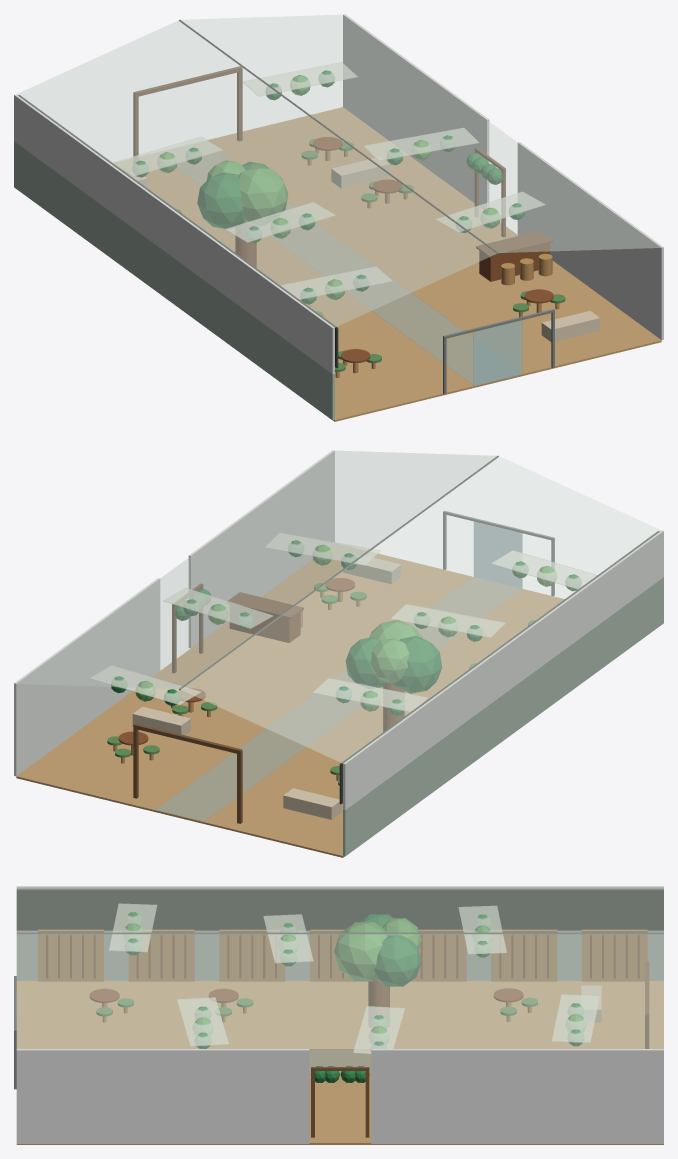
The model's file is rainforest-hall-material-concept-v2.glb.
The picture shows the model from 3 angles, top to bottom: view 1: azimuth 30°, elevation 25°; view 2: azimuth 150°, elevation 25°; view 3: azimuth 270°, elevation 25°; orthographic projection.
Visible parts, largest first — view 1: roof_left, sand_floor, roof_right, left_upper_screen, left_lower_operable_placeholder, right_wall_front, right_wall_back, V2_Main_Customer_Route_REFERENCE, double_door_reference, V2_LifeTree_Canopy_01_PROVISIONAL, V2_LifeTree_Canopy_00_PROVISIONAL, V2_Sheer_Canopy_02 (+12 smaller); view 2: roof_left, sand_floor, roof_right, left_upper_screen, left_lower_operable_placeholder, right_wall_back, right_wall_front, V2_Main_Customer_Route_REFERENCE, double_door_reference, V2_LifeTree_Canopy_00_PROVISIONAL, V2_Sheer_Canopy_05, V2_Sheer_Canopy_03 (+15 smaller); view 3: roof_right, sand_floor, roof_left, right_wall_front, right_wall_back, V2_Left_Upper_Masking, left_lower_operable_placeholder, V2_Operable_Panel_06, V2_Operable_Panel_00, left_upper_screen, V2_Operable_Panel_05, V2_Operable_Panel_01 (+15 smaller).
Boxes of the visible parts, x1,y1,x2,y2 form: roof_left: (16,20,497,327); sand_floor: (126,107,661,421); roof_right: (181,14,661,252); left_upper_screen: (14,94,334,374); left_lower_operable_placeholder: (14,141,334,420); right_wall_front: (517,142,663,340); right_wall_back: (343,14,489,205); V2_Main_Customer_Route_REFERENCE: (372,293,473,384); double_door_reference: (473,320,522,385); V2_LifeTree_Canopy_01_PROVISIONAL: (238,166,288,222); V2_LifeTree_Canopy_00_PROVISIONAL: (197,172,244,228); V2_Sheer_Canopy_02: (225,202,335,242); roof_left: (180,456,661,763); sand_floor: (16,553,564,857); roof_right: (16,450,496,688); left_upper_screen: (343,530,663,810); left_lower_operable_placeholder: (343,577,663,856); right_wall_back: (14,578,160,776); right_wall_front: (188,450,334,648); V2_Main_Customer_Route_REFERENCE: (156,729,305,821); double_door_reference: (474,522,522,588); V2_LifeTree_Canopy_00_PROVISIONAL: (393,636,442,693); V2_Sheer_Canopy_05: (90,665,200,705); V2_Sheer_Canopy_03: (163,588,272,628); roof_right: (16,933,663,1048); sand_floor: (16,981,663,1144); roof_left: (16,887,663,932); right_wall_front: (16,1049,309,1143); right_wall_back: (371,1049,663,1143); V2_Left_Upper_Masking: (16,889,663,930); left_lower_operable_placeholder: (16,934,663,980); V2_Operable_Panel_06: (581,929,647,981); V2_Operable_Panel_00: (38,929,103,981); left_upper_screen: (16,886,663,932); V2_Operable_Panel_05: (491,929,557,981); V2_Operable_Panel_01: (128,929,194,981).
Size of the model in its own units: 15 by 5.58 by 25.1.
